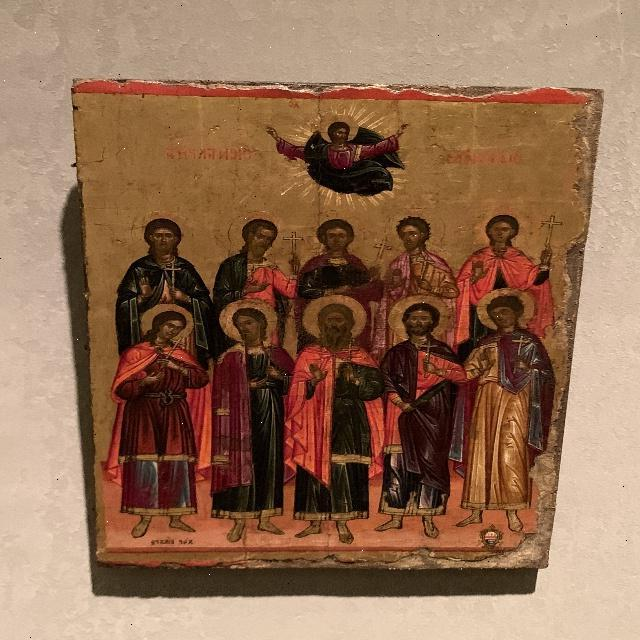aura: (390, 296, 459, 339), (229, 210, 296, 254), (130, 211, 196, 254), (305, 212, 378, 250), (304, 300, 376, 338), (473, 285, 537, 327), (474, 205, 535, 248), (223, 297, 280, 338), (390, 210, 450, 247), (144, 305, 199, 342)
christ_pantocrator: (250, 109, 413, 207)
cross: (263, 335, 288, 397), (154, 336, 186, 377), (539, 214, 563, 254), (414, 254, 436, 297), (281, 232, 307, 266), (510, 334, 532, 371), (421, 338, 440, 377), (162, 262, 184, 295), (344, 344, 360, 383)
saint: (106, 311, 199, 535), (298, 297, 374, 538), (214, 302, 283, 539), (389, 296, 453, 539), (476, 287, 533, 542), (463, 215, 559, 337), (106, 211, 215, 309), (214, 209, 302, 299), (297, 217, 379, 297), (389, 212, 457, 297)
